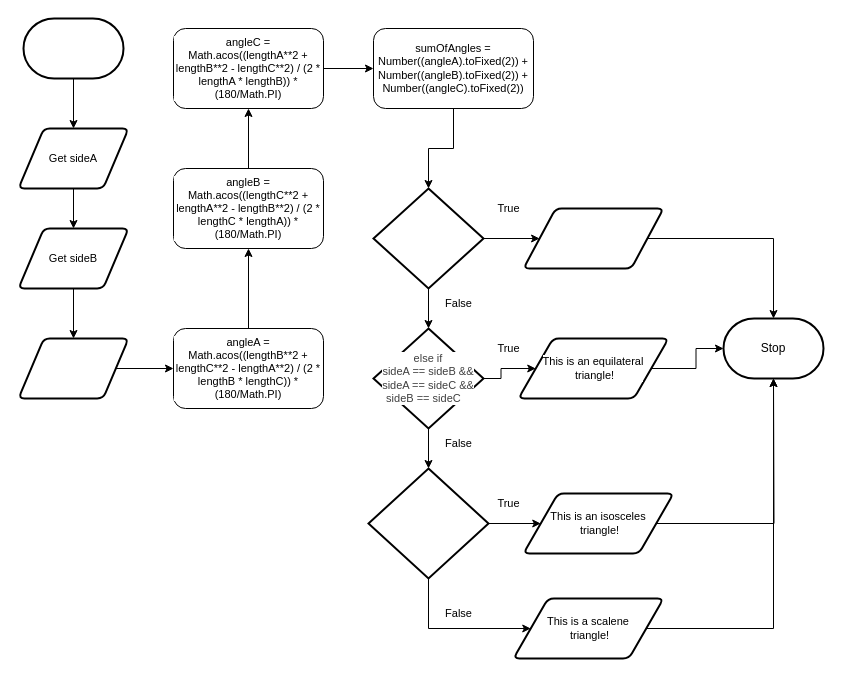
Some shapes in this 841 by 676 pixel diagram are drawn without their labels. Here are the shapes that lost their labels. From the top down, the centre of each, then its label:
point 73,48: Start
point 428,238: if sumOfAngles != 180
point 593,238: Oops, this is NOT a triangle.
point 73,368: Get sideC
point 428,523: else if sideA == sideB || sideA == sideC || sideB == sideC
